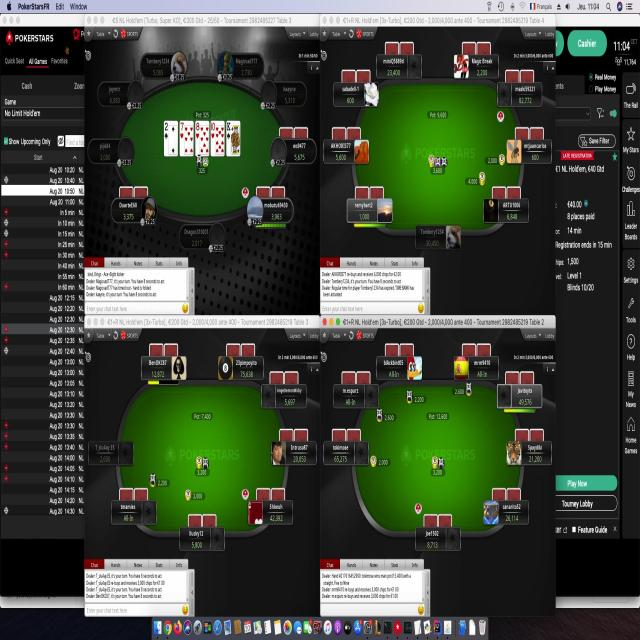10H: (209, 118, 217, 140)
2S: (162, 119, 170, 142)
7H: (180, 120, 186, 140)
8H: (195, 120, 201, 140)
KS: (225, 117, 232, 139)
